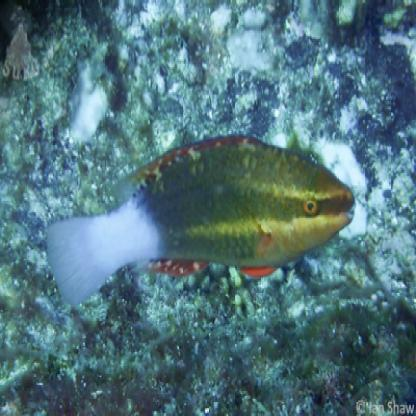Scaridae -Parrotfishes-: (42, 127, 359, 308)
